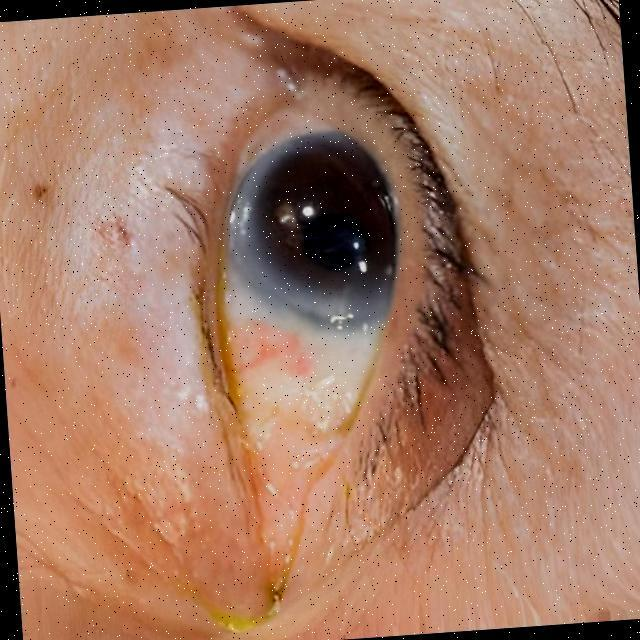Pterygium: (218, 291, 373, 521)
